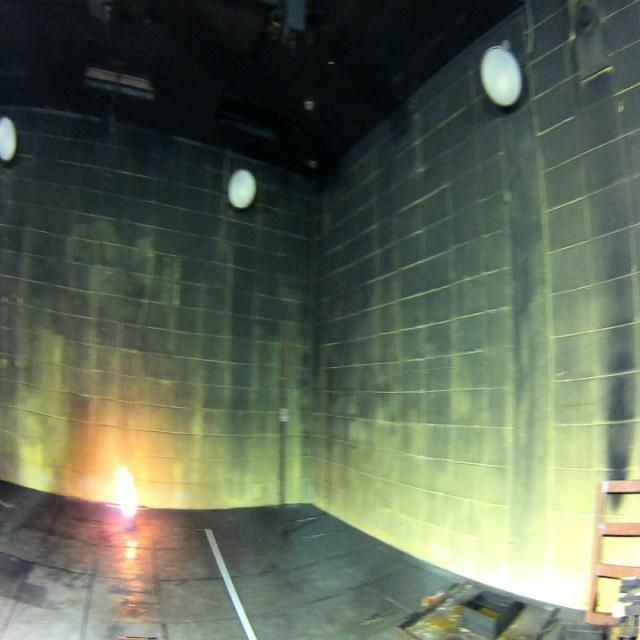Fire: (119, 466, 138, 517)
